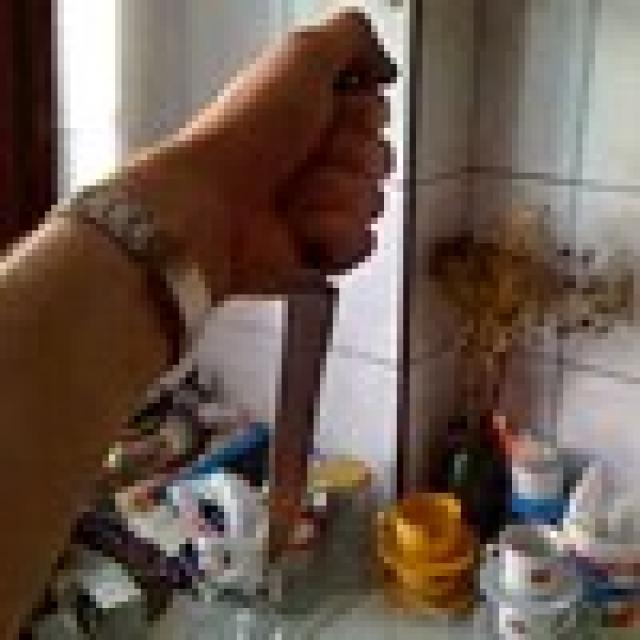Knife: (256, 38, 371, 550)
